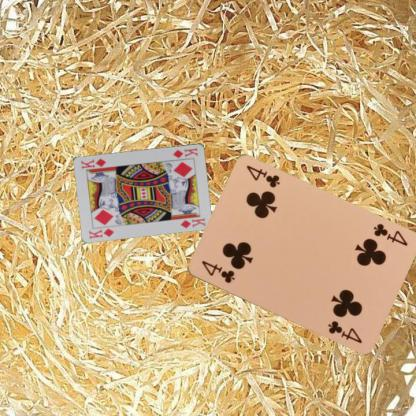4c: (198, 258, 236, 285), (370, 221, 408, 248)
Kd: (87, 225, 115, 240), (170, 145, 199, 159)
